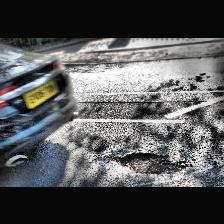pothole: (112, 150, 184, 174), (64, 62, 84, 68)
